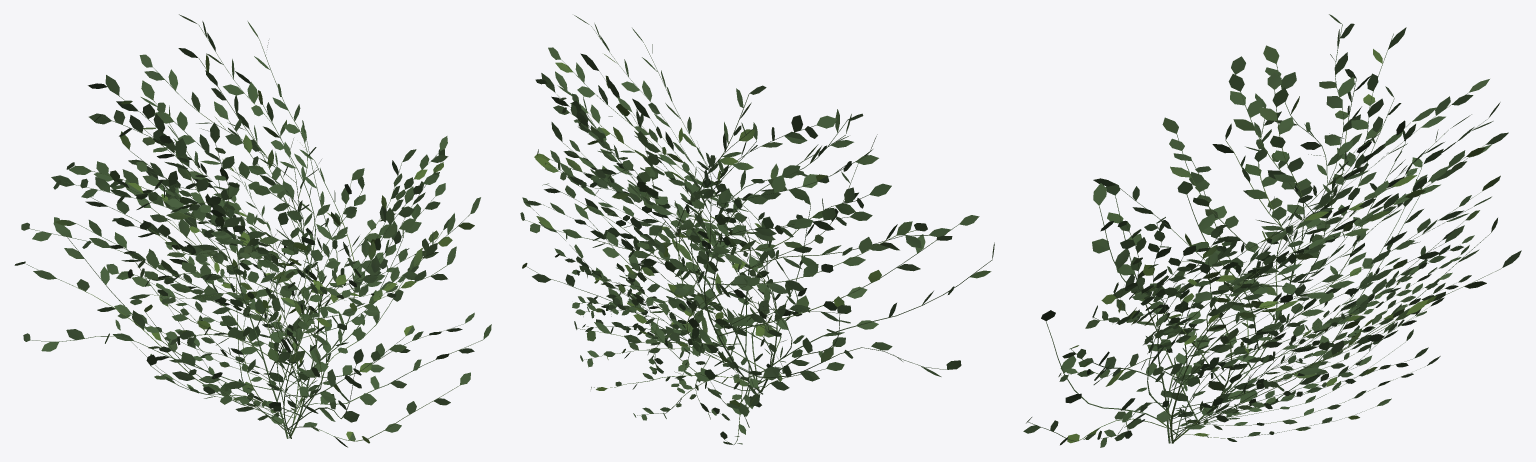
The model's file is bush6.glb.
3 views of the same model, side by side, from view 1: azimuth 30°, elevation 25°; view 2: azimuth 150°, elevation 25°; view 3: azimuth 270°, elevation 25° (orthographic). The views are drawn at different scales.
Visible parts, largest first — view 1: bush6; view 2: bush6; view 3: bush6.
Boxes of the visible parts, bbox=[...] form: bush6: bbox=[14, 14, 491, 447]; bush6: bbox=[520, 15, 994, 444]; bush6: bbox=[1023, 14, 1521, 447].
Size of the model in its own units: 0.5669 by 0.4495 by 0.5374.
Materials: 1 (1 with a texture image).
